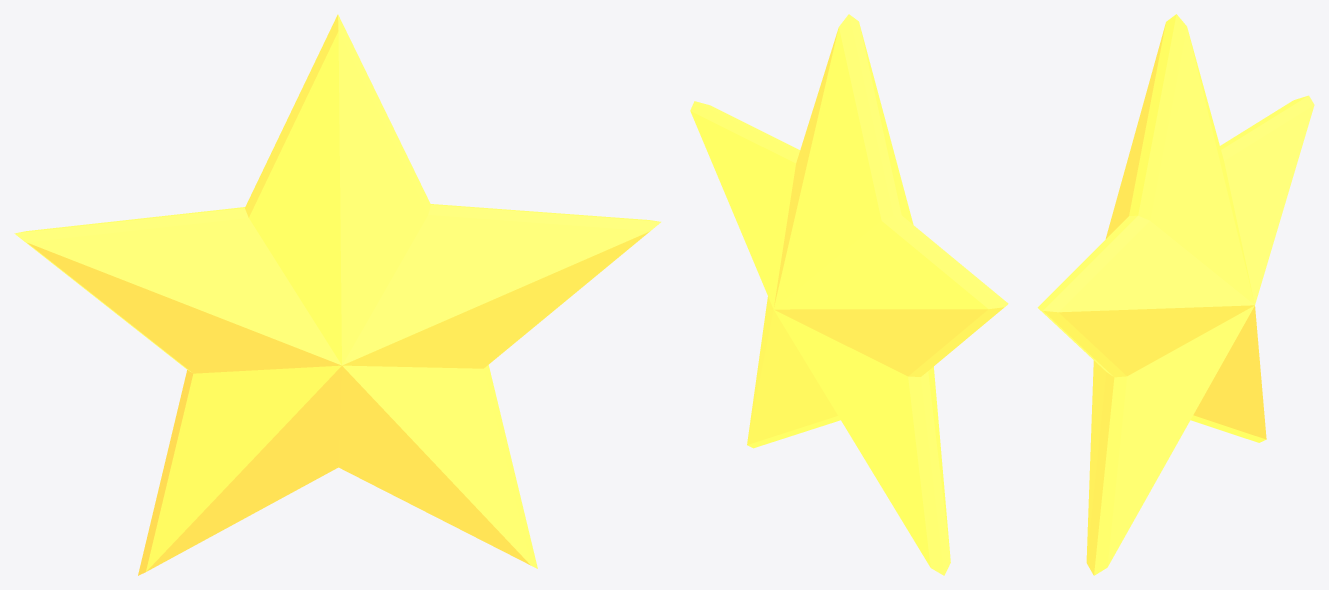
Rendered from star.glb.
The picture shows the model from 3 angles, left to right: view 1: azimuth 30°, elevation 25°; view 2: azimuth 150°, elevation 25°; view 3: azimuth 270°, elevation 25°; orthographic projection. The views are drawn at different scales.
Parts seen in each view (by area): view 1: Circle; view 2: Circle; view 3: Circle.
Boxes of the visible parts, x1,y1,x2,y2 form: Circle: (14, 14, 660, 575); Circle: (690, 14, 1008, 575); Circle: (1037, 14, 1314, 575).
Bounding box in the file's own units: 0.4036 × 0.433 × 0.2195.
